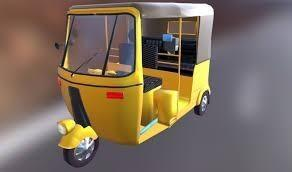keke: (56, 1, 213, 168)
